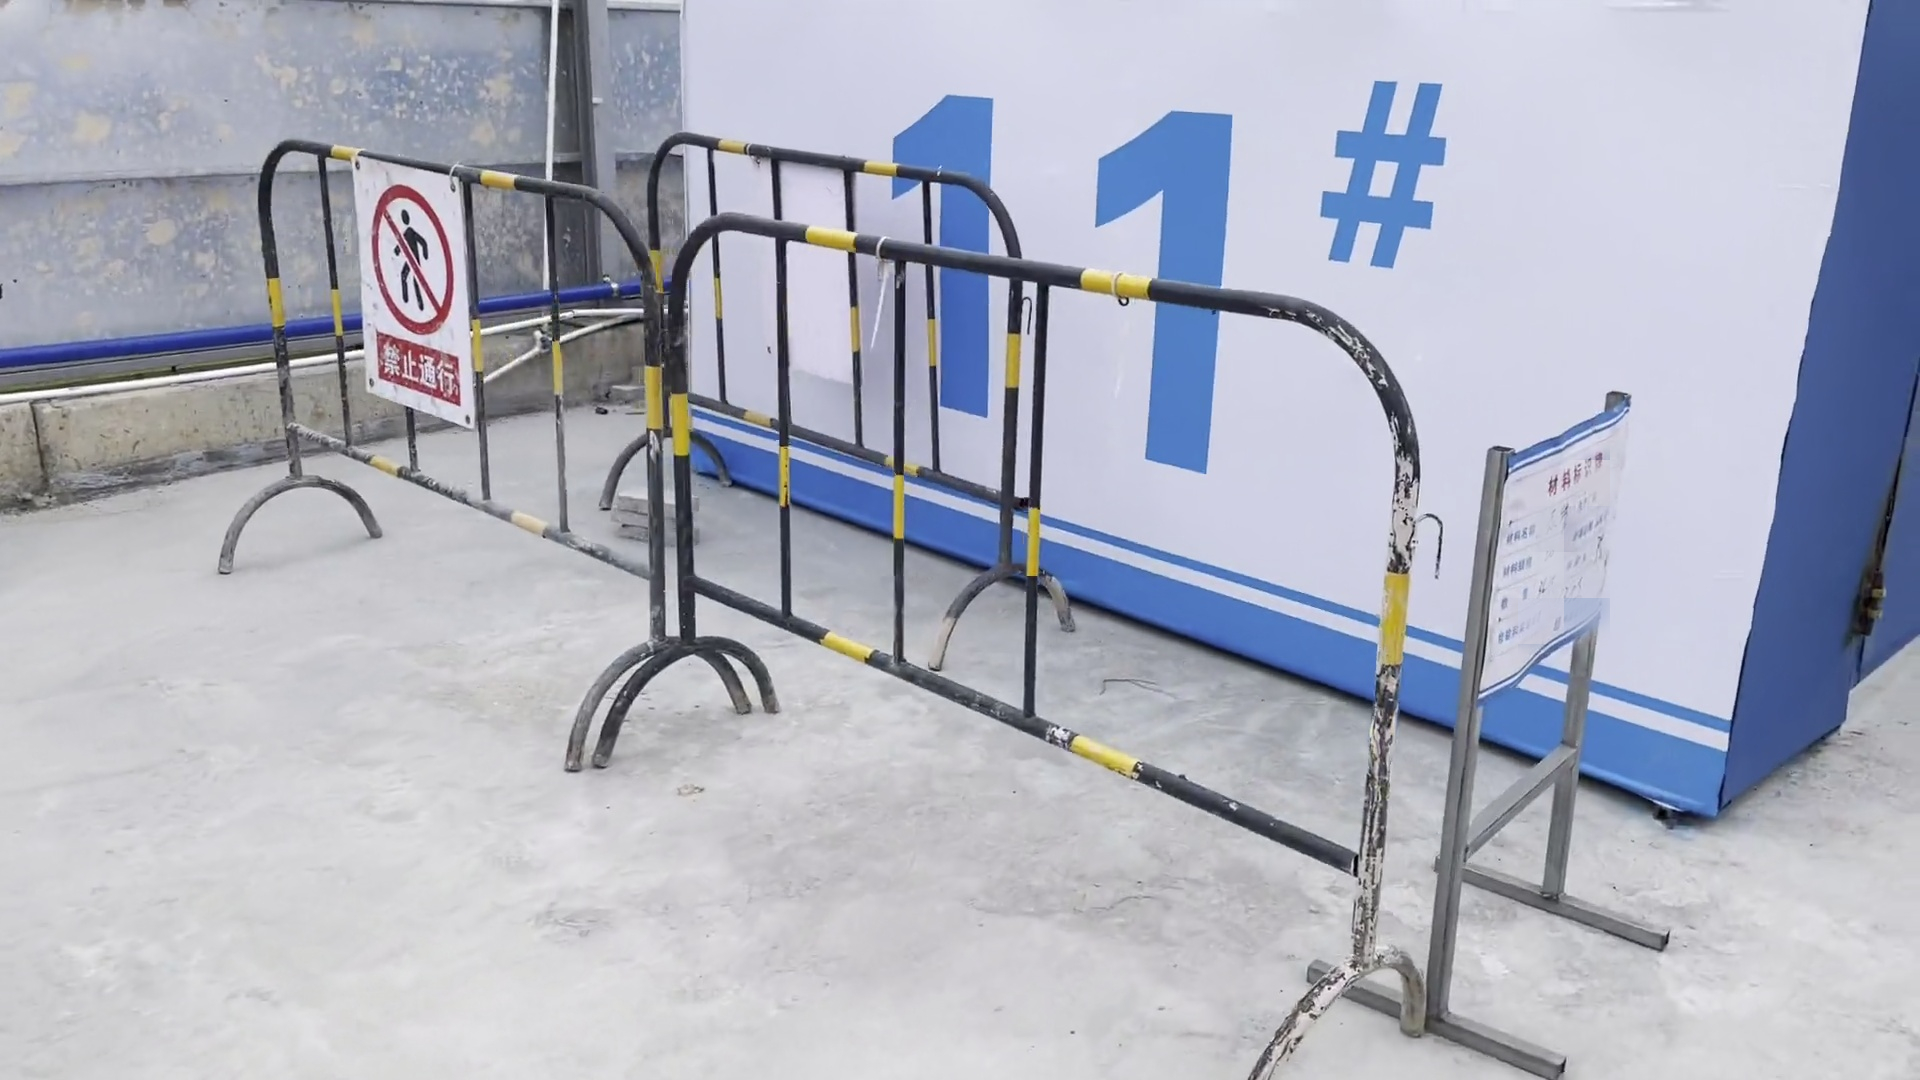brick: (617, 479, 692, 549)
fence: (231, 120, 1427, 971)
slogan: (1425, 389, 1681, 749), (318, 146, 504, 431)
